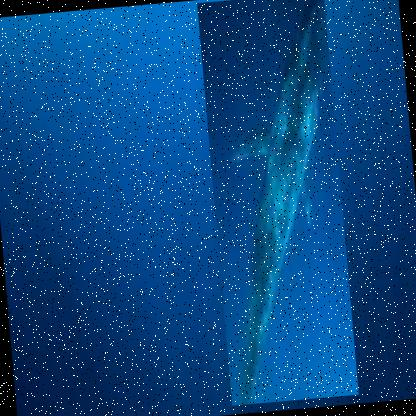blue_whale: (196, 0, 360, 408)
